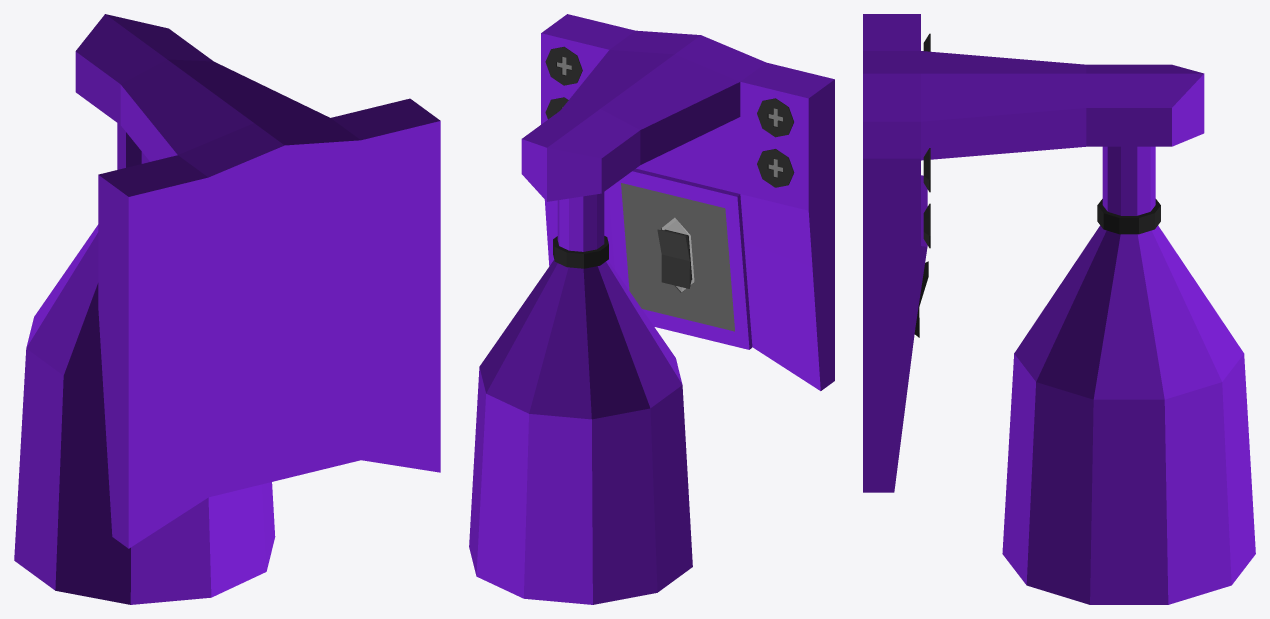
Rendered from Wall Light.fbx.
3 renders of one model, left to right at view 1: azimuth 30°, elevation 25°; view 2: azimuth 150°, elevation 25°; view 3: azimuth 270°, elevation 25°, orthographic. The views are drawn at different scales.
Visible parts, largest first — view 1: Node 0; view 2: Node 0; view 3: Node 0.
Part boxes in pixels (<box>): Node 0: <box>14,14,440,604</box>; Node 0: <box>469,14,834,604</box>; Node 0: <box>863,14,1255,604</box>.
Size of the model in its own units: 0.2837 by 0.383 by 0.2472.
